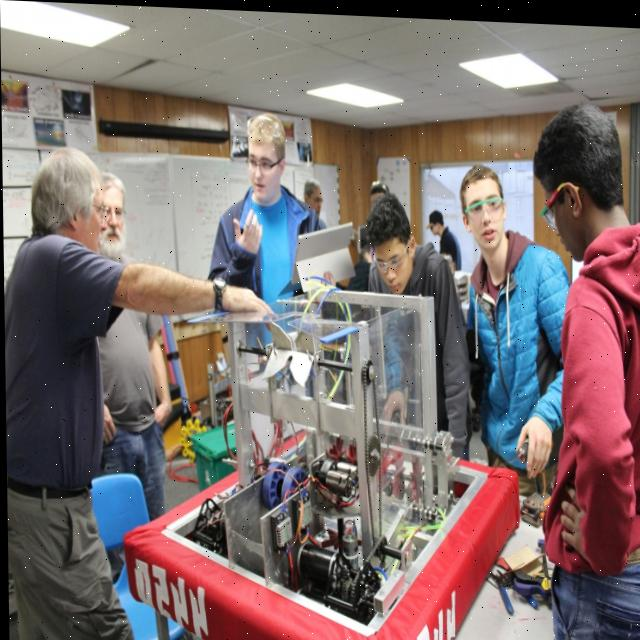robot: (120, 283, 528, 640)
